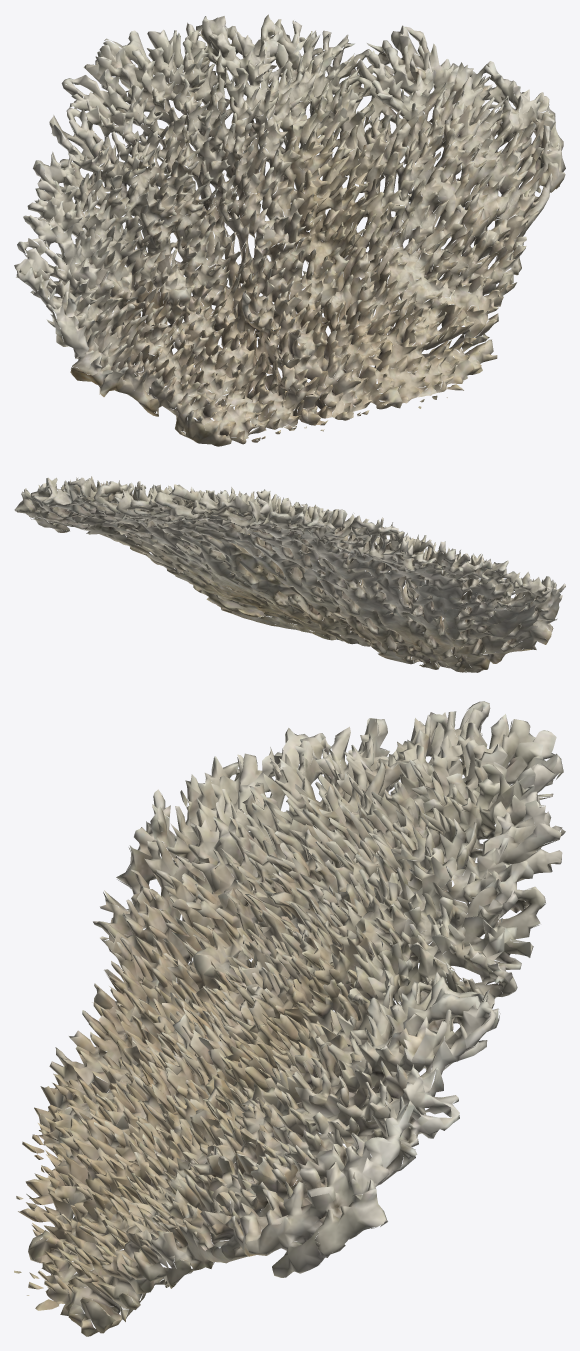
File: table.glb
The picture shows the model from 3 angles, top to bottom: view 1: azimuth 30°, elevation 25°; view 2: azimuth 150°, elevation 25°; view 3: azimuth 270°, elevation 25°; orthographic projection. The views are drawn at different scales.
Visible parts, largest first — view 1: Smithsonian scan — table; view 2: Smithsonian scan — table; view 3: Smithsonian scan — table.
Part boxes in pixels (x1,y1,x2,y2): Smithsonian scan — table: (14, 14, 565, 446); Smithsonian scan — table: (14, 476, 565, 672); Smithsonian scan — table: (14, 701, 565, 1336).
Bounding box in the file's own units: 1 × 0.4662 × 0.5304.
Materials: 1 (1 with a texture image).
